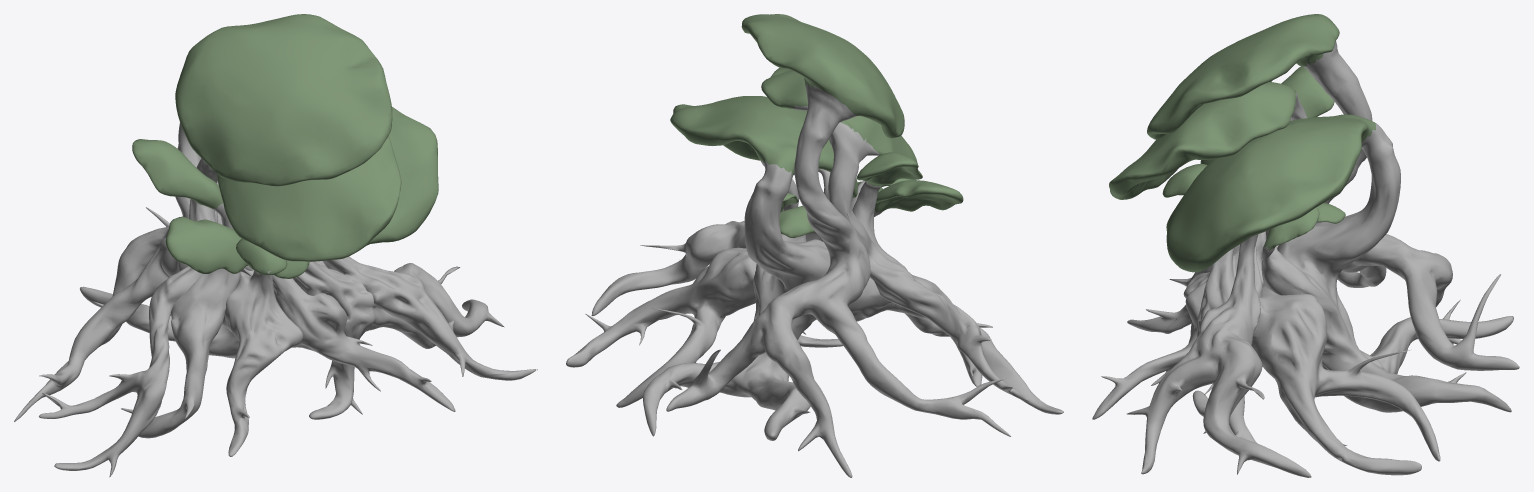
File: HugeMushroomTreeOriginal.fbx
3 renders of one model, left to right at view 1: azimuth 30°, elevation 25°; view 2: azimuth 150°, elevation 25°; view 3: azimuth 270°, elevation 25°, orthographic. The views are drawn at different scales.
Parts seen in each view (by area): view 1: SM_Mushroom_A_LOD0; view 2: SM_Mushroom_A_LOD0; view 3: SM_Mushroom_A_LOD0.
Boxes of the visible parts, box(x1,y1,x2,y2) form: SM_Mushroom_A_LOD0: box(14, 14, 537, 477); SM_Mushroom_A_LOD0: box(566, 14, 1063, 477); SM_Mushroom_A_LOD0: box(1092, 14, 1519, 477).
Size of the model in its own units: 726 by 570 by 575.
